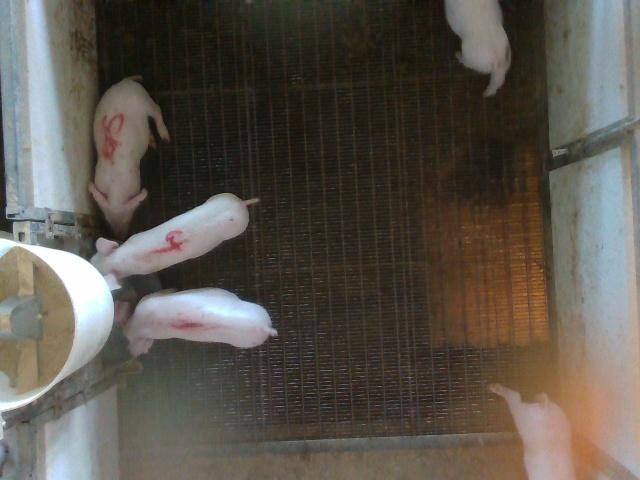pig-1: (115, 290, 278, 356)
pig-4: (91, 194, 254, 289)
pig-5: (89, 76, 170, 240)
